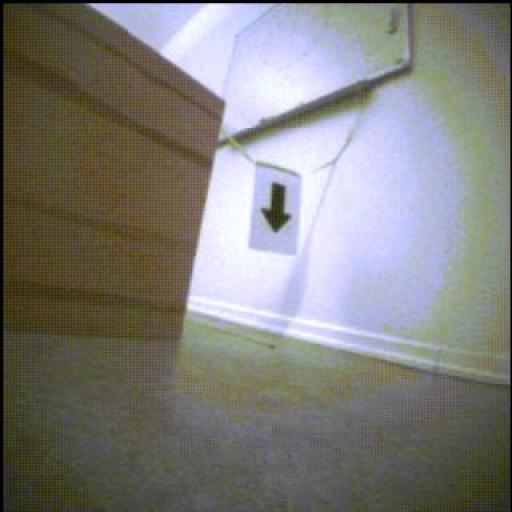Arrow: (262, 183, 292, 233)
